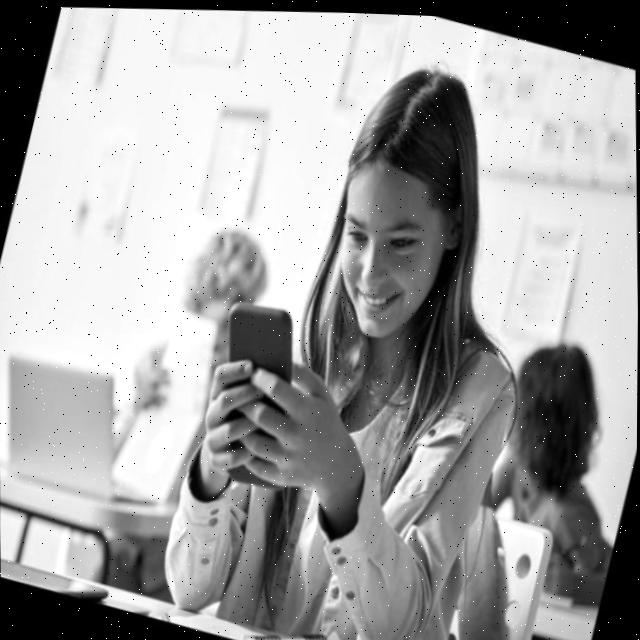phone: (189, 289, 330, 495)
